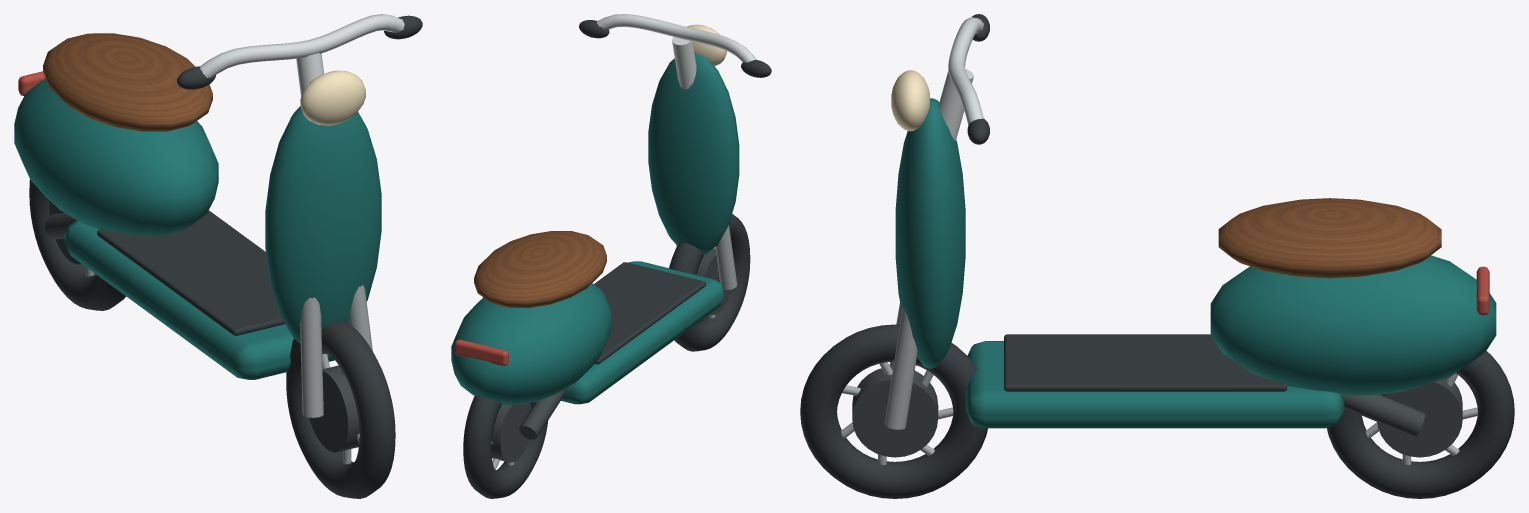
The model's file is veh_scooter_electric-1fd7dc600468.glb.
3 views of the same model, side by side, from view 1: azimuth 30°, elevation 25°; view 2: azimuth 150°, elevation 25°; view 3: azimuth 270°, elevation 25° (orthographic). The views are drawn at different scales.
Visible parts, largest first — view 1: surface_teal (×2), surface_rubber (×4), surface_walnut, surface_chrome, surface_graphite (×2), surface_steel, surface_ivory; view 2: surface_teal (×2), surface_rubber (×4), surface_walnut, surface_graphite (×3), surface_chrome, surface_steel, surface_red, surface_ivory; view 3: surface_teal (×2), surface_rubber (×3), surface_walnut, surface_graphite (×3), surface_steel (×2), surface_chrome, surface_ivory.
Part boxes in pixels (left/top/right/bottom): surface_teal (×2): left=14, top=78, right=381, bottom=379; surface_rubber (×4): left=29, top=15, right=422, bottom=498; surface_walnut: left=43, top=33, right=212, bottom=131; surface_chrome: left=199, top=14, right=404, bottom=96; surface_graphite (×2): left=44, top=213, right=359, bottom=452; surface_steel: left=300, top=285, right=372, bottom=417; surface_ivory: left=300, top=70, right=365, bottom=125; surface_teal (×2): left=451, top=52, right=739, bottom=404; surface_rubber (×4): left=463, top=20, right=771, bottom=498; surface_walnut: left=474, top=231, right=606, bottom=307; surface_graphite (×3): left=491, top=248, right=731, bottom=462; surface_chrome: left=590, top=14, right=756, bottom=89; surface_steel: left=676, top=225, right=737, bottom=289; surface_red: left=454, top=339, right=508, bottom=366; surface_ivory: left=687, top=24, right=726, bottom=66; surface_teal (×2): left=895, top=98, right=1496, bottom=428; surface_rubber (×3): left=800, top=324, right=1514, bottom=498; surface_walnut: left=1218, top=198, right=1441, bottom=278; surface_graphite (×3): left=852, top=366, right=1462, bottom=457; surface_steel (×2): left=841, top=303, right=953, bottom=464; surface_chrome: left=938, top=17, right=983, bottom=140; surface_ivory: left=891, top=70, right=929, bottom=131.
Size of the model in its own units: 0.609 by 1.03 by 1.51.
Materials: 9 (1 with a texture image).
